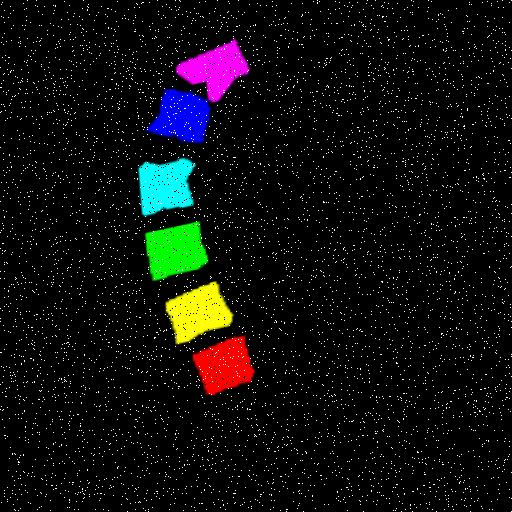L1: (200, 336, 258, 395)
L2: (170, 283, 238, 344)
L3: (149, 222, 211, 280)
L4: (141, 157, 196, 213)
L5: (148, 88, 211, 142)
S1: (176, 42, 248, 102)
